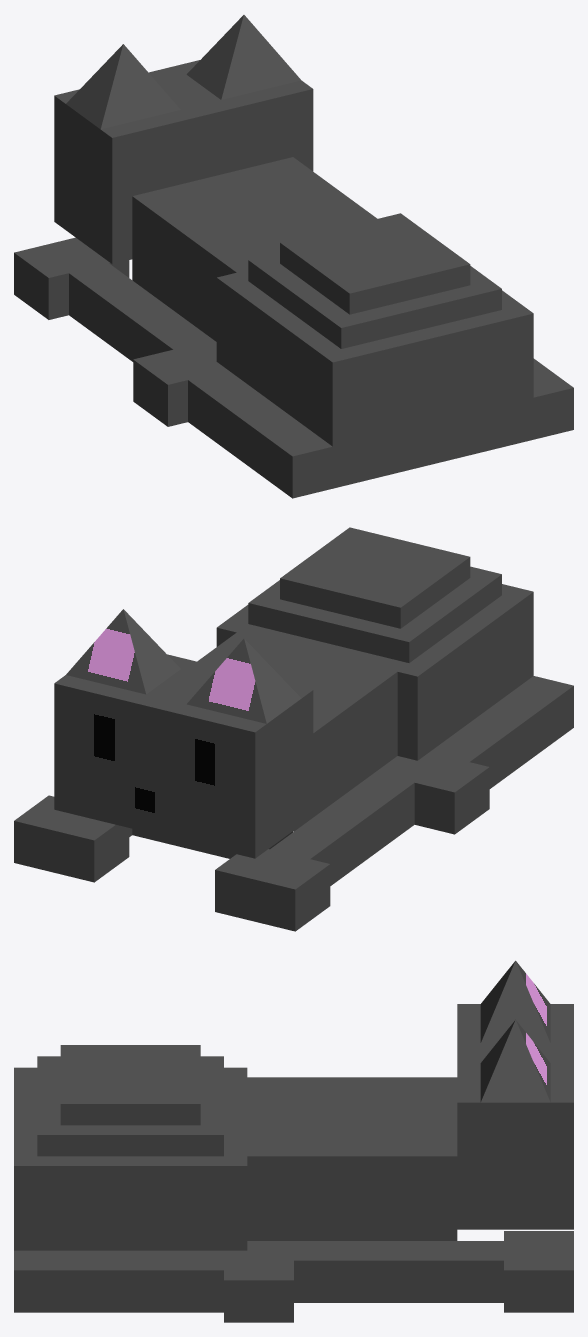
Rendered from crazy_cat.gltf.
3 renders of one model, top to bottom at view 1: azimuth 30°, elevation 25°; view 2: azimuth 150°, elevation 25°; view 3: azimuth 270°, elevation 25°, orthographic.
Parts seen in each view (by area): view 1: cuboid (×12); view 2: cuboid (×12); view 3: cuboid (×11).
Part boxes in pixels (<box>): cuboid (×12): <box>14,15,573,498</box>; cuboid (×12): <box>14,527,573,931</box>; cuboid (×11): <box>14,960,573,1322</box>.
Size of the model in its own units: 1 by 0.75 by 1.5.
Materials: 1 (1 with a texture image).
